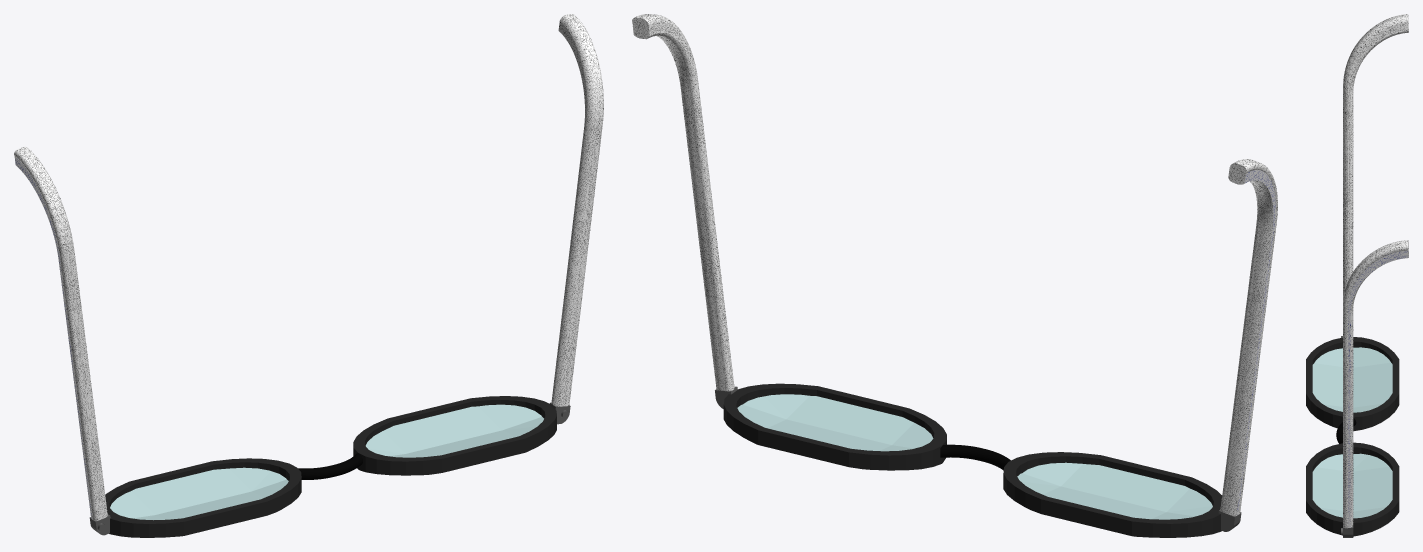
3 views of the same model, side by side, from view 1: azimuth 30°, elevation 25°; view 2: azimuth 150°, elevation 25°; view 3: azimuth 270°, elevation 25° (orthographic). The views are drawn at different scales.
Visible parts, largest first — view 1: glasses; view 2: glasses; view 3: glasses.
Boxes of the visible parts, x1,y1,x2,y2 form: glasses: [14, 14, 603, 537]; glasses: [632, 14, 1277, 537]; glasses: [1306, 14, 1408, 537].
Bounding box in the file's own units: 635 × 406 × 119.
